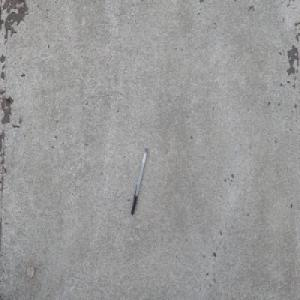Pen: (130, 147, 147, 215)
